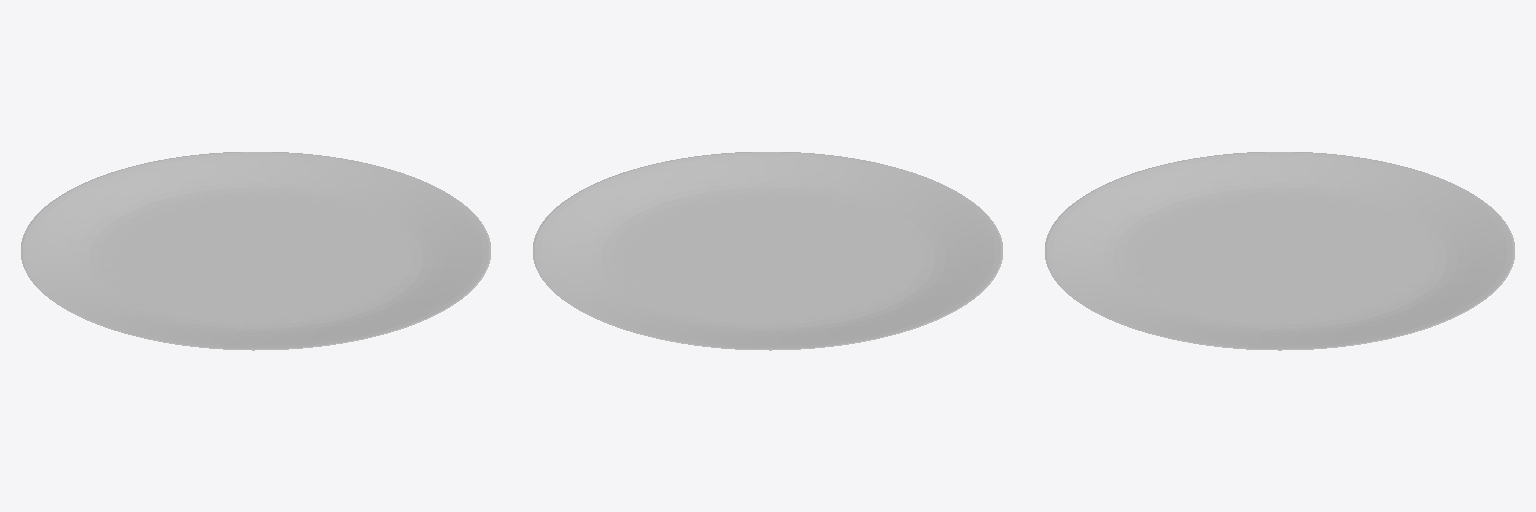
The model's file is plate2.obj.
3 views of the same model, side by side, from view 1: azimuth 30°, elevation 25°; view 2: azimuth 150°, elevation 25°; view 3: azimuth 270°, elevation 25° (orthographic).
Parts seen in each view (by area): view 1: Circle; view 2: Circle; view 3: Circle.
Boxes of the visible parts, <box> form: Circle: <box>21,152,490,350</box>; Circle: <box>533,152,1002,350</box>; Circle: <box>1045,152,1514,350</box>.
Size of the model in its own units: 2.73 by 0.0652 by 2.73.